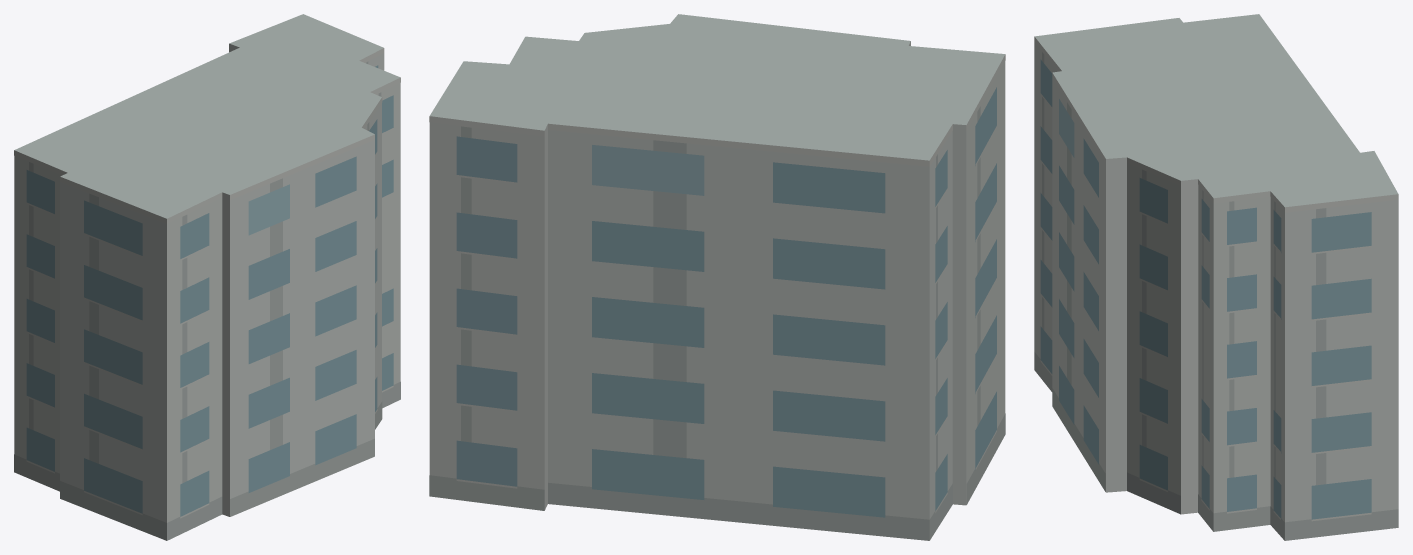
Rendered from survey-upis-32473269.glb.
3 views of the same model, side by side, from view 1: azimuth 30°, elevation 25°; view 2: azimuth 150°, elevation 25°; view 3: azimuth 270°, elevation 25° (orthographic). The views are drawn at different scales.
Parts seen in each view (by area): view 1: survey-upis-32473269.tmp; view 2: survey-upis-32473269.tmp; view 3: survey-upis-32473269.tmp.
Part boxes in pixels (left/top/right/bottom): survey-upis-32473269.tmp: left=14, top=14, right=400, bottom=540; survey-upis-32473269.tmp: left=429, top=14, right=1005, bottom=540; survey-upis-32473269.tmp: left=1034, top=14, right=1398, bottom=540.
Size of the model in its own units: 18.21 by 14.65 by 14.5.
